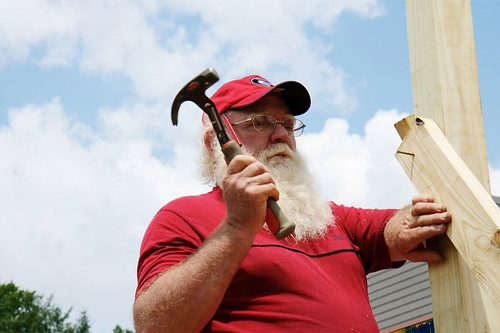hammer: (170, 66, 237, 157)
